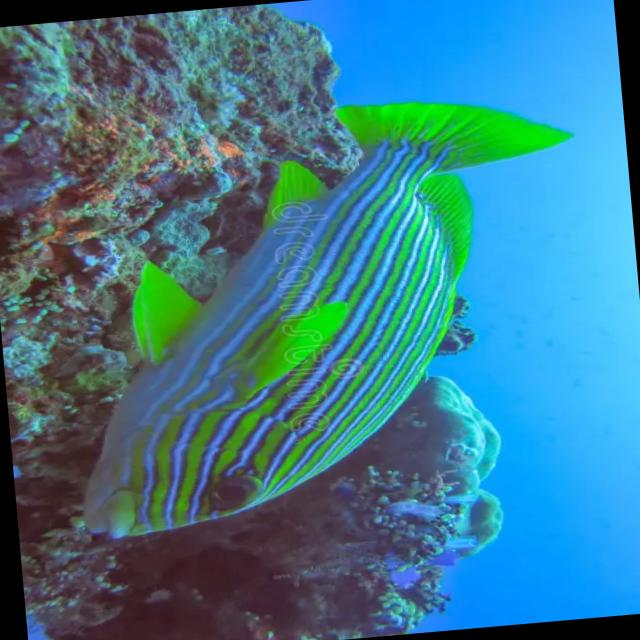RibbonedSweetlips: (39, 84, 607, 543)
